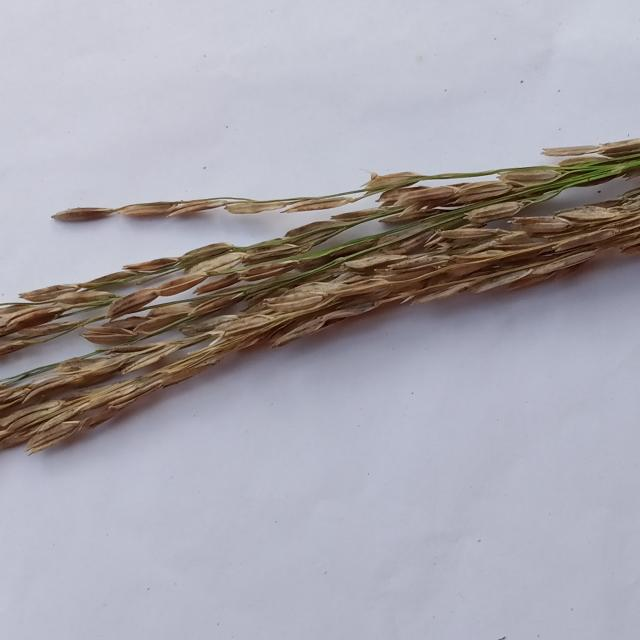Neck_Blast: (0, 199, 640, 461), (3, 149, 632, 356)
